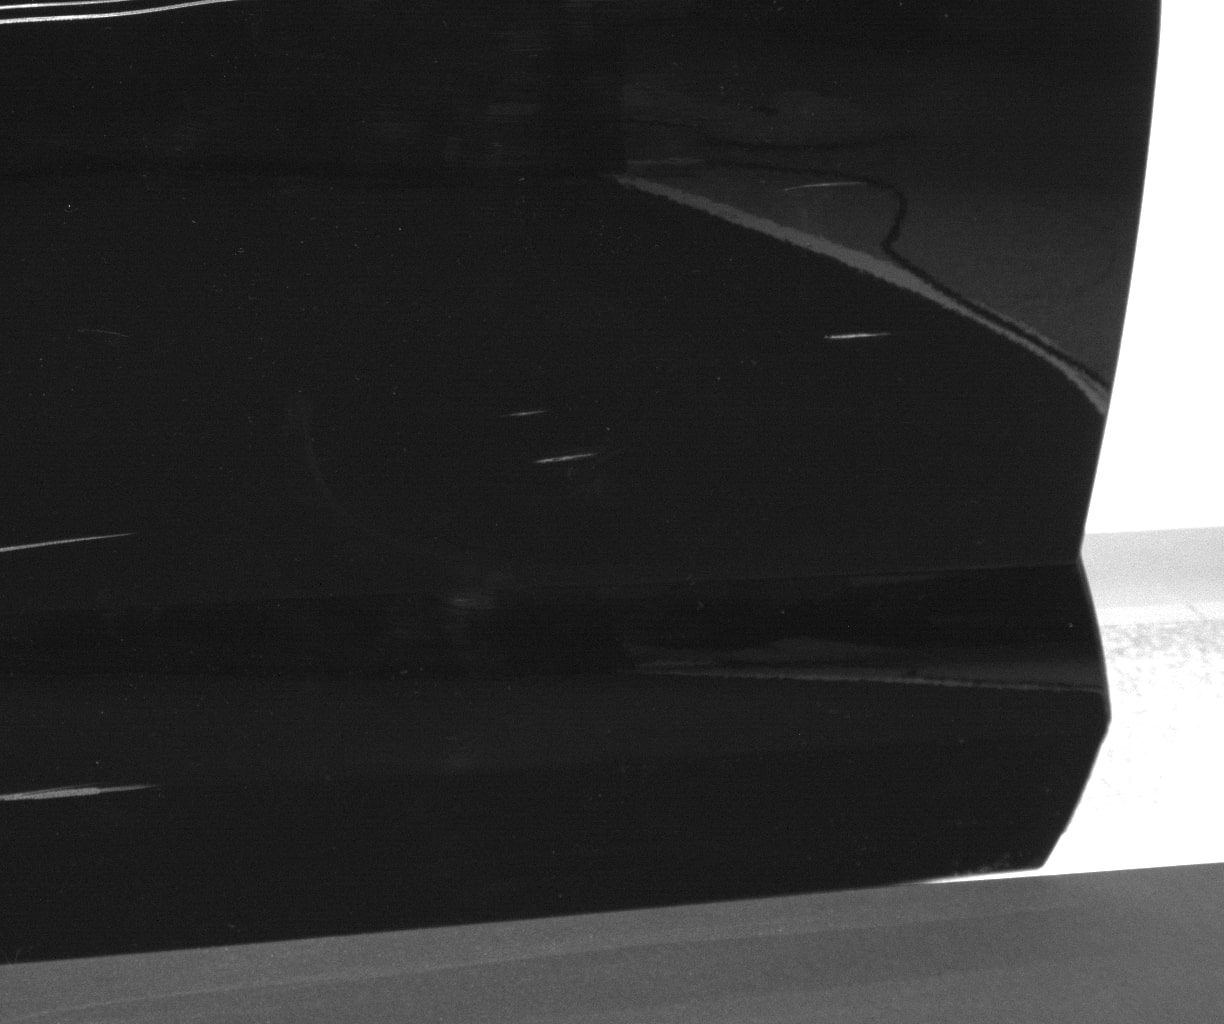scratch: (1, 1, 236, 25), (1, 783, 152, 803), (1, 531, 132, 553), (783, 181, 863, 192), (537, 451, 595, 465), (825, 332, 888, 340), (503, 410, 547, 417)
